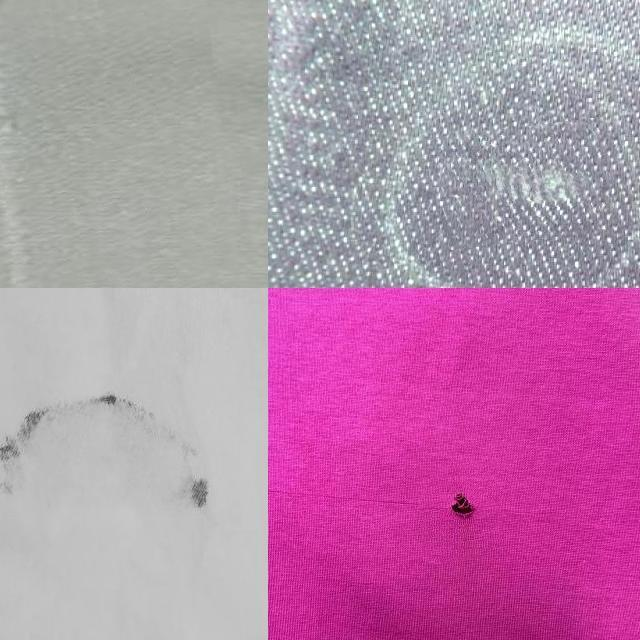Thread_other: (0, 368, 238, 550)
other: (418, 463, 504, 562)
stains: (439, 122, 614, 246)
